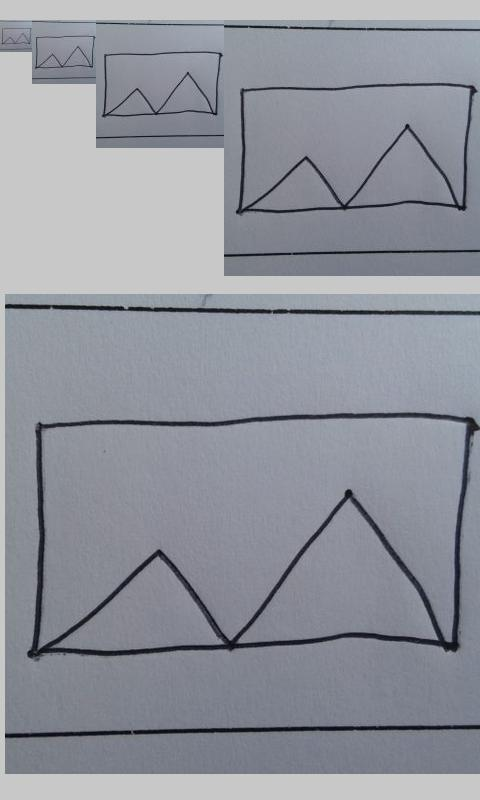image_view: (28, 412, 472, 658), (235, 79, 476, 217), (102, 51, 222, 117), (35, 35, 95, 69), (1, 27, 32, 45)
